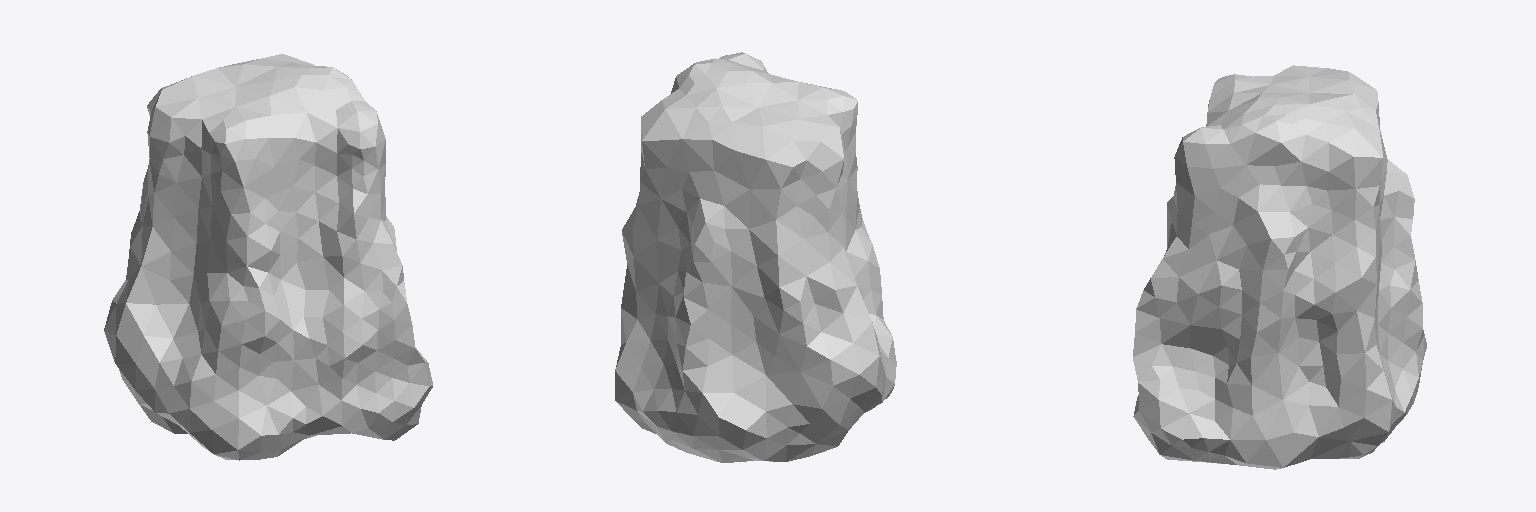
The model's file is RockSet05C.obj.
3 renders of one model, left to right at view 1: azimuth 30°, elevation 25°; view 2: azimuth 150°, elevation 25°; view 3: azimuth 270°, elevation 25°, orthographic.
Visible parts, largest first — view 1: RockSet05C; view 2: RockSet05C; view 3: RockSet05C.
Boxes of the visible parts, x1=… form: RockSet05C: x1=104, y1=54, x2=432, y2=460; RockSet05C: x1=615, y1=52, x2=896, y2=462; RockSet05C: x1=1133, y1=65, x2=1426, y2=469.
Size of the model in its own units: 12.43 by 16.27 by 12.62.